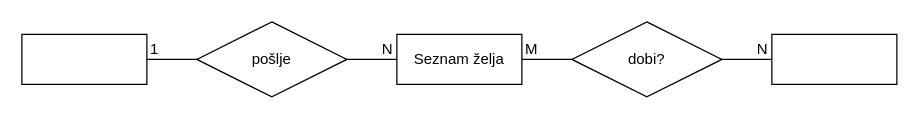
The diagram is 919 pixels wide and 119 high, and some of its shapes have lost their labels. Here are the shapes that lost their labels. From the top down, the centre of each, then its label:
point 84,58: Otrok
point 834,58: Igrača
